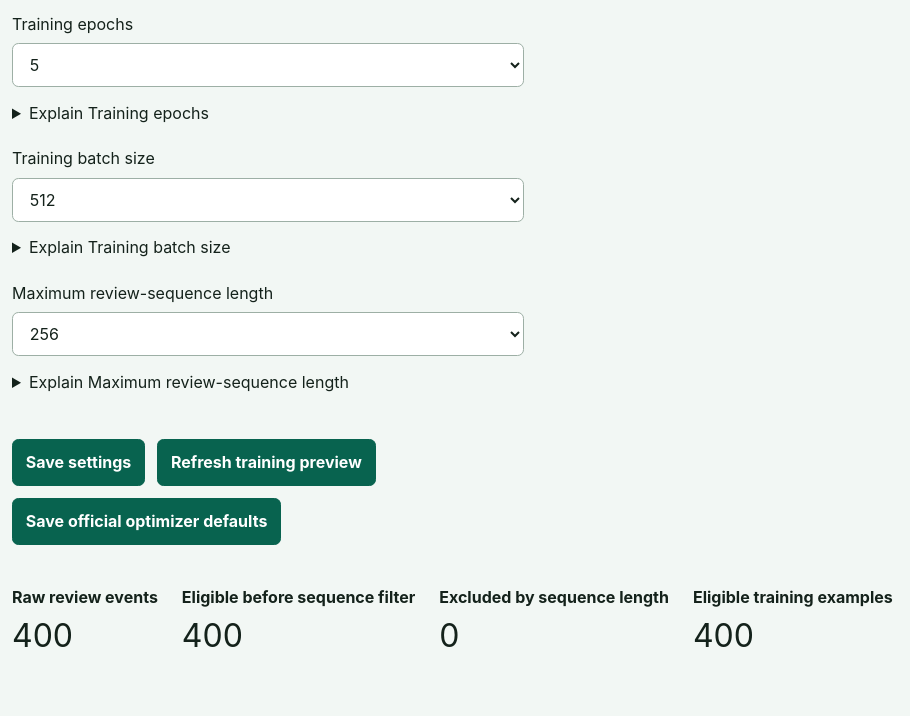
Test: OptimizerTrainingSettingsForm › announces an optimistic conflict and preserves the edited draft
Select "7" in the dropdown labelled "Training epochs". click: (268, 65)
box: 12,43 -> 524,87
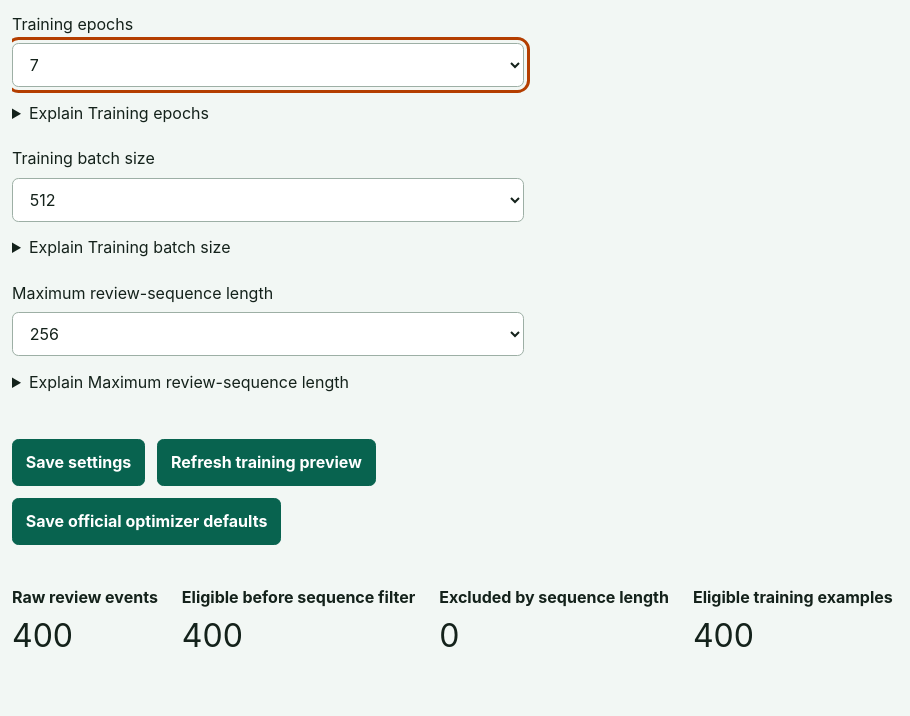
Click the button "Save settings". click: (79, 462)
box: 12,439 -> 145,486
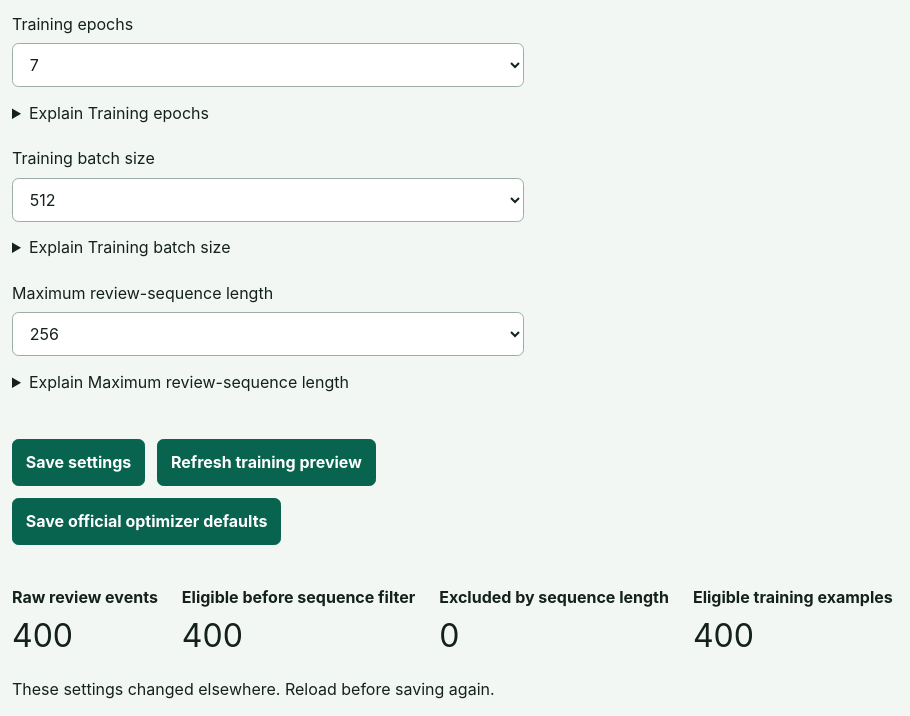
Now the text "changed elsewhere" is shown, box 12,680 -> 495,700
